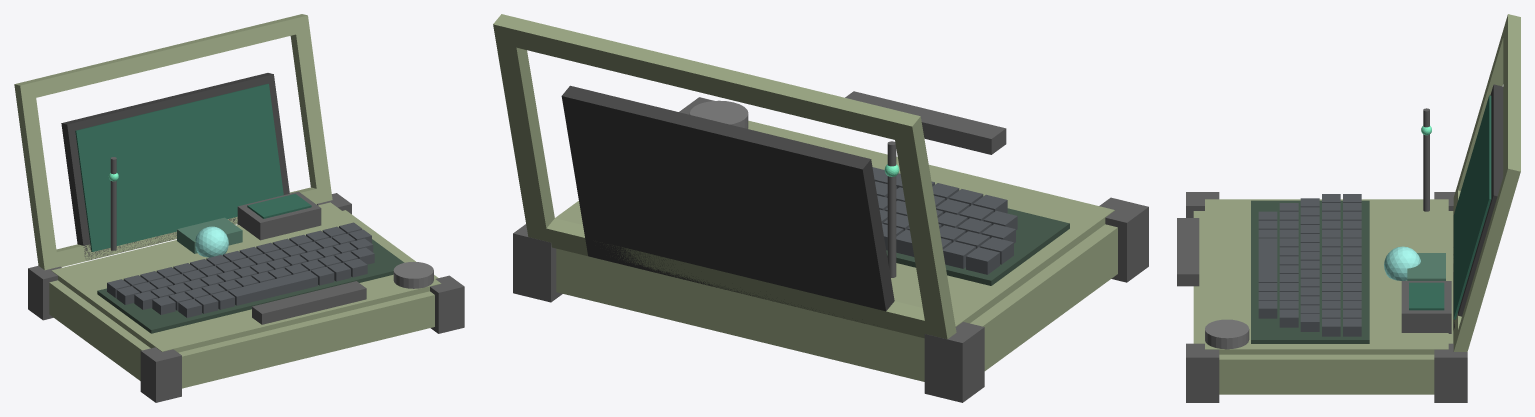
File: build-field-operator.glb
The picture shows the model from 3 angles, left to right: view 1: azimuth 30°, elevation 25°; view 2: azimuth 150°, elevation 25°; view 3: azimuth 270°, elevation 25°; orthographic projection. The views are drawn at different scales.
Visible parts, largest first — view 1: geometry_12, geometry_0, geometry_1, geometry_7, geometry_11, geometry_9, geometry_10, geometry_13, geometry_6, geometry_3, geometry_8, geometry_83 (+8 smaller); view 2: geometry_11, geometry_0, geometry_7, geometry_1, geometry_8, geometry_9, geometry_10, geometry_2, geometry_6, geometry_13, geometry_4, geometry_3 (+4 smaller); view 3: geometry_1, geometry_0, geometry_13, geometry_12, geometry_7, geometry_10, geometry_11, geometry_5, geometry_4, geometry_83, geometry_6, geometry_9 (+13 smaller).
Boxes of the visible parts, x1,y1,x2,y2 form: geometry_12: (75, 83, 283, 251); geometry_0: (49, 210, 438, 388); geometry_1: (51, 202, 441, 352); geometry_7: (15, 14, 309, 97); geometry_11: (61, 73, 289, 260); geometry_9: (14, 81, 57, 269); geometry_10: (290, 14, 332, 202); geometry_13: (97, 239, 404, 333); geometry_6: (252, 281, 366, 324); geometry_3: (140, 347, 181, 402); geometry_8: (37, 185, 332, 269); geometry_83: (237, 191, 321, 240); geometry_11: (561, 85, 894, 323); geometry_0: (555, 201, 1117, 381); geometry_7: (493, 14, 923, 144); geometry_1: (560, 120, 1114, 326); geometry_8: (526, 218, 956, 339); geometry_9: (892, 112, 955, 338); geometry_10: (493, 14, 554, 241); geometry_2: (924, 322, 984, 402); geometry_6: (845, 91, 1006, 154); geometry_13: (886, 208, 1069, 285); geometry_4: (513, 224, 562, 302); geometry_3: (1099, 197, 1148, 282); geometry_1: (1205, 199, 1448, 354); geometry_0: (1193, 211, 1453, 394); geometry_13: (1251, 200, 1369, 343); geometry_12: (1453, 95, 1491, 319); geometry_7: (1503, 14, 1520, 186); geometry_10: (1453, 161, 1520, 351); geometry_11: (1453, 84, 1503, 330); geometry_5: (1186, 343, 1219, 402); geometry_4: (1434, 343, 1467, 402); geometry_83: (1401, 281, 1451, 333); geometry_6: (1177, 218, 1199, 286); geometry_9: (1458, 14, 1520, 190).
Size of the model in its own units: 0.354 by 0.2276 by 0.31.
